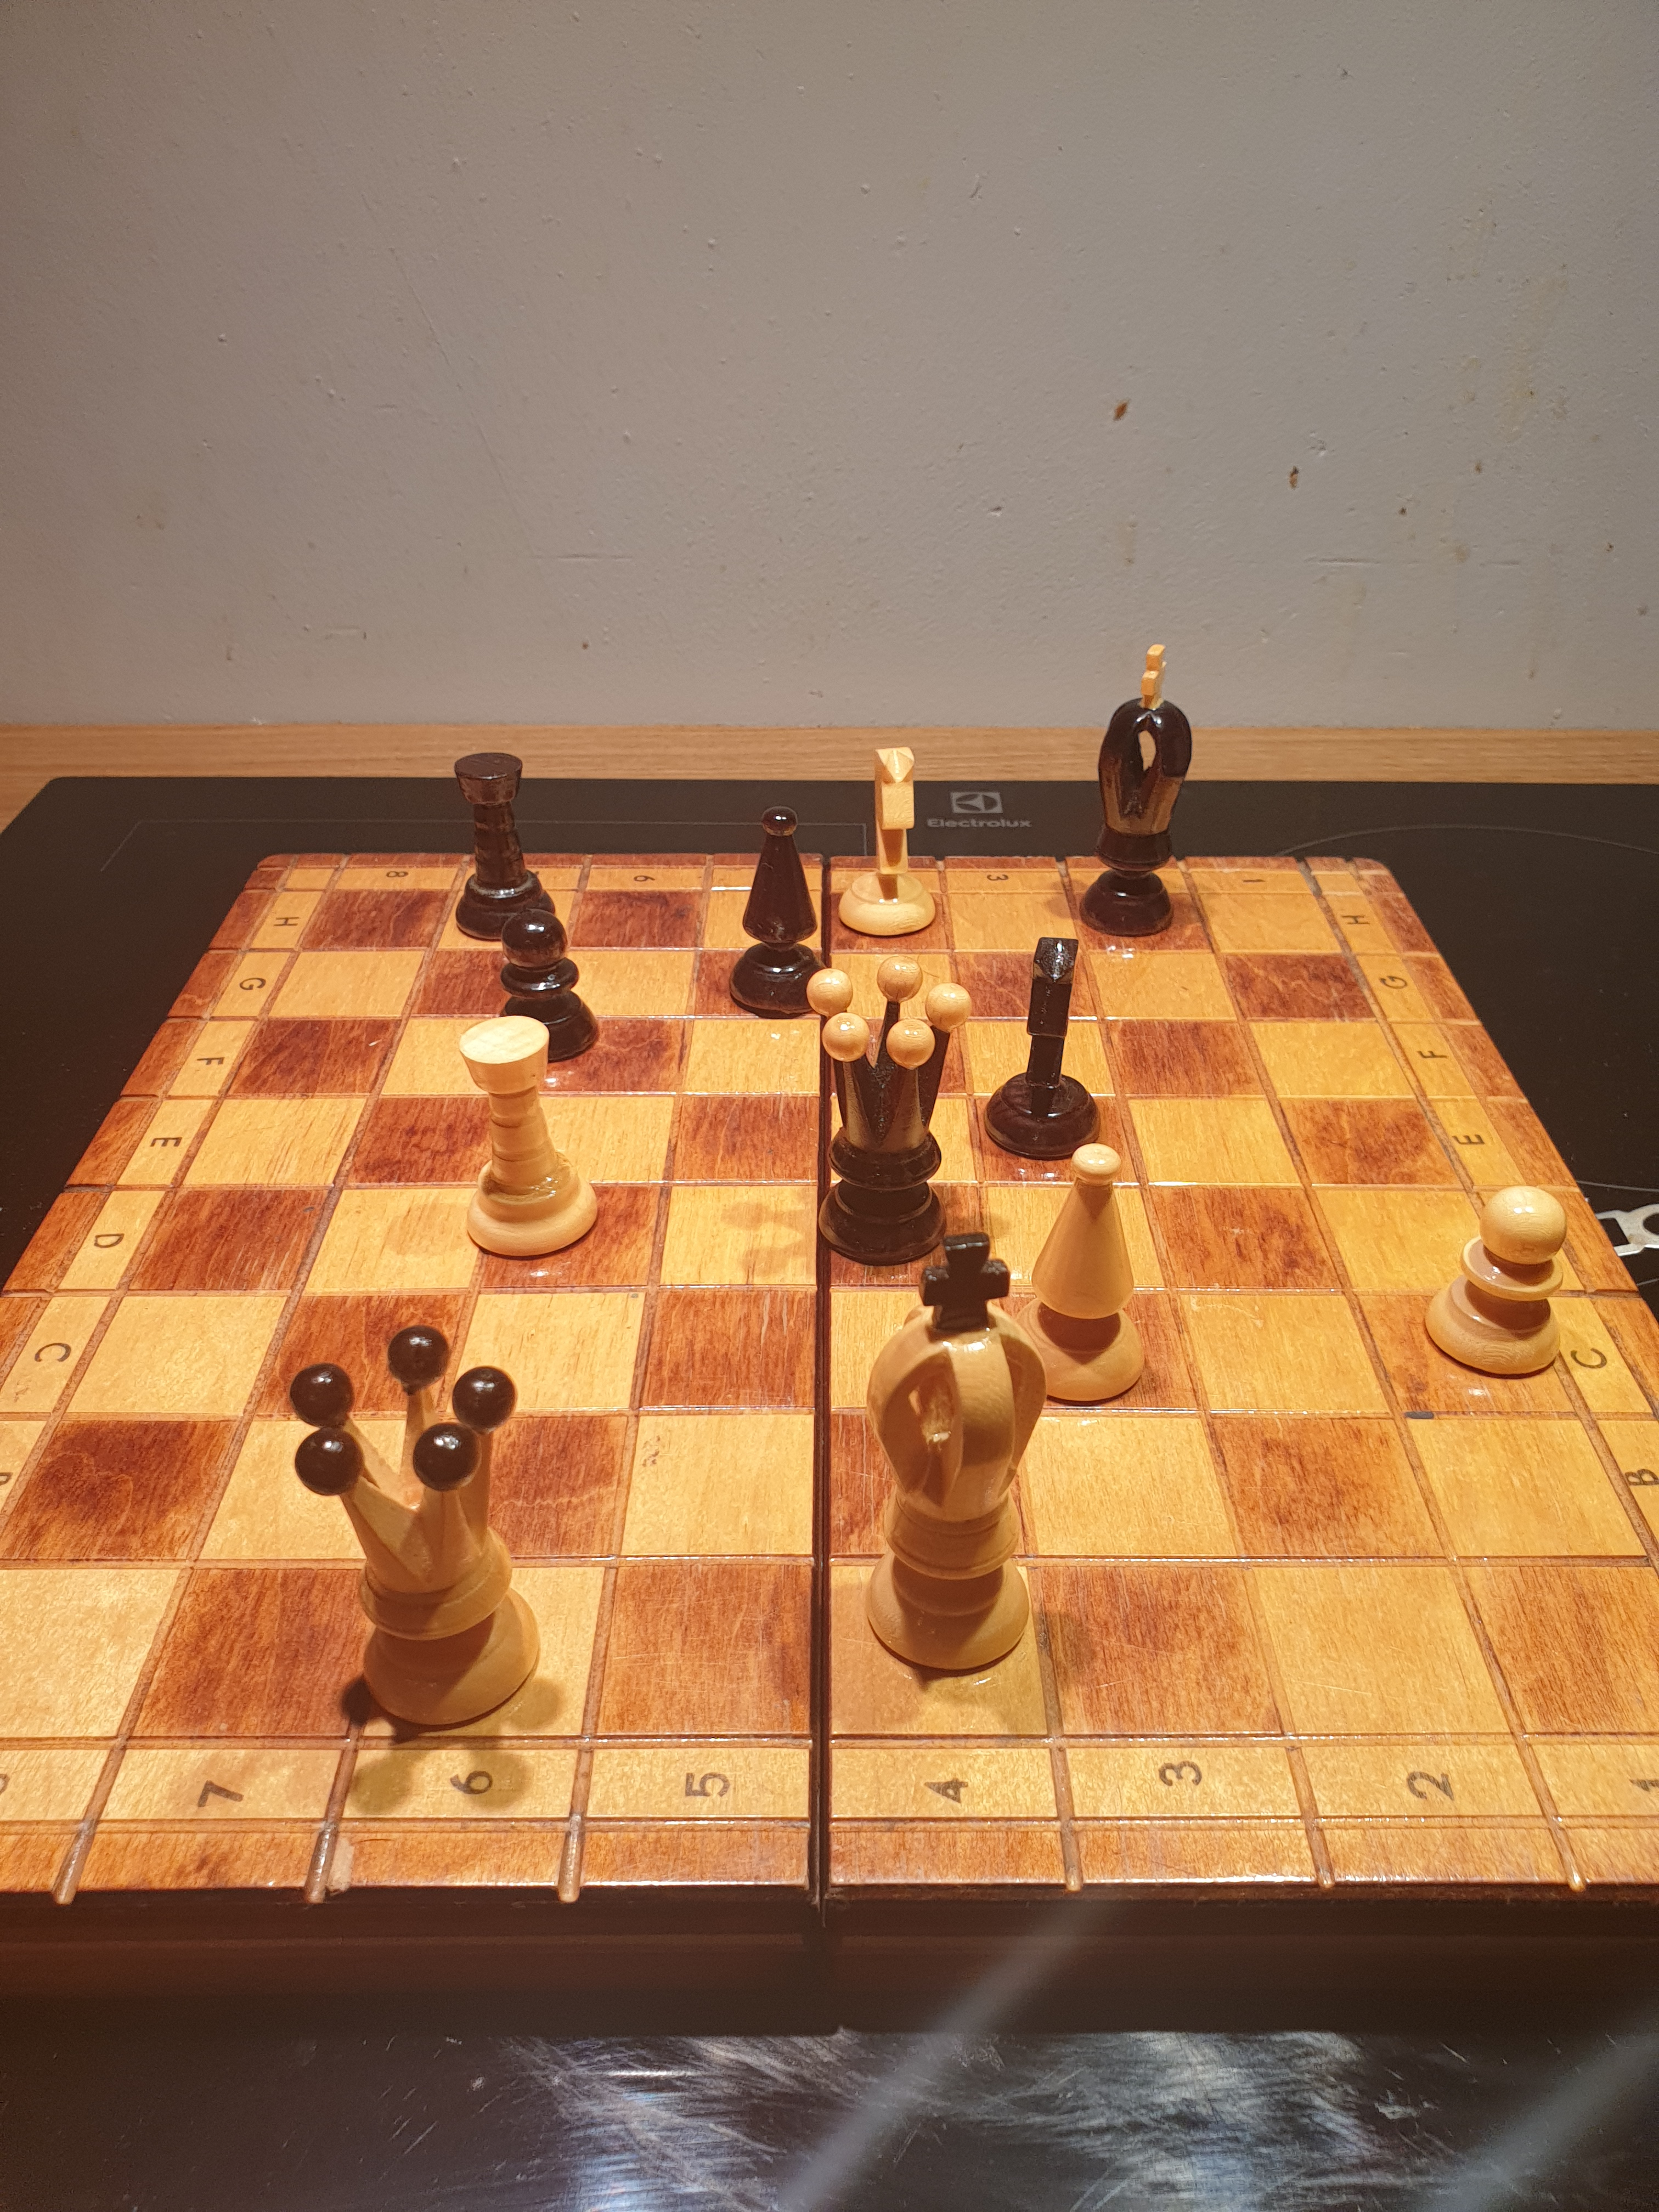bbishop: (720, 786, 835, 1033)
bking: (1072, 618, 1201, 948)
bknight: (976, 925, 1107, 1176)
bpawn: (486, 881, 606, 1082)
bqueen: (798, 942, 974, 1280)
brook: (437, 744, 572, 951)
wbishop: (988, 1127, 1168, 1418)
wking: (856, 1223, 1060, 1688)
wknight: (826, 728, 950, 949)
wpawn: (1412, 1181, 1595, 1386)
wqueen: (288, 1315, 572, 1756)
wrook: (448, 1003, 608, 1264)
